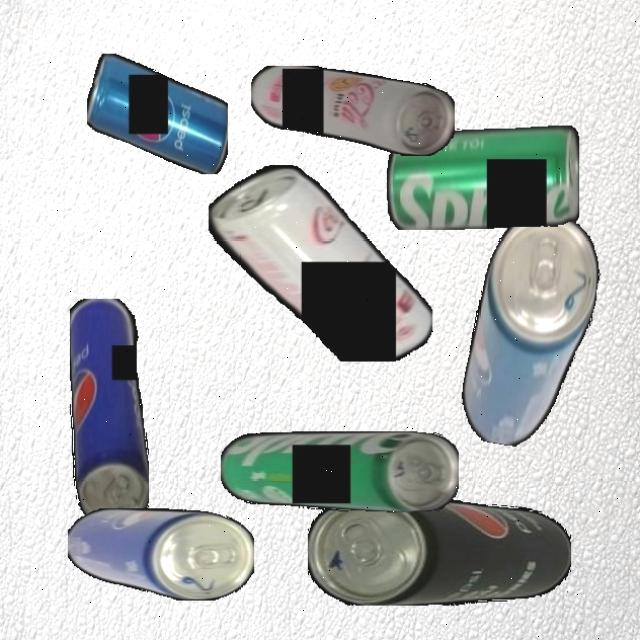debris: (208, 165, 432, 362), (454, 204, 608, 456), (308, 494, 571, 606), (386, 124, 579, 230), (220, 432, 458, 512), (250, 66, 455, 156), (69, 298, 149, 526), (67, 508, 254, 600), (86, 53, 228, 174)
